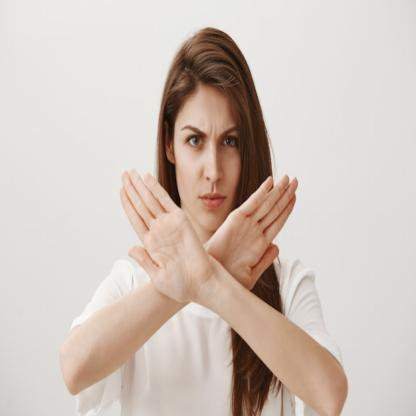stop: (118, 166, 206, 306), (208, 165, 302, 283)
